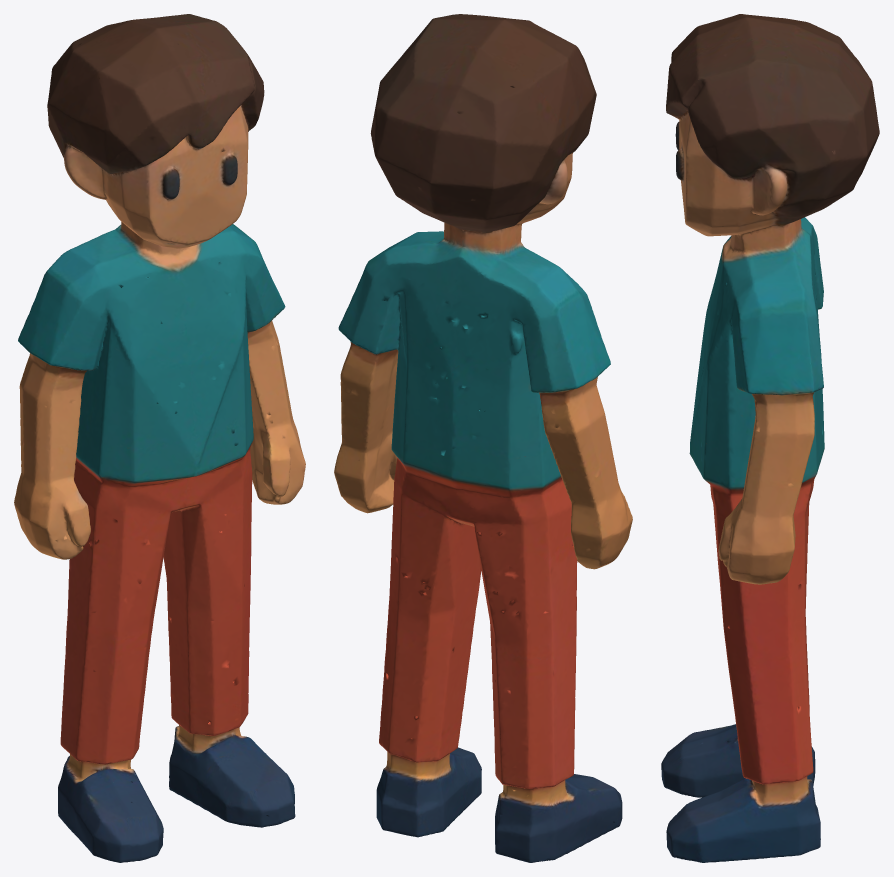
Rendered from visitor_01_tripo.glb.
3 renders of one model, left to right at view 1: azimuth 30°, elevation 25°; view 2: azimuth 150°, elevation 25°; view 3: azimuth 270°, elevation 25°, orthographic. The views are drawn at different scales.
Visible parts, largest first — view 1: tripo_node_b5675ca3-82a7-4861-bda1-aa9ecc1bdd0c; view 2: tripo_node_b5675ca3-82a7-4861-bda1-aa9ecc1bdd0c; view 3: tripo_node_b5675ca3-82a7-4861-bda1-aa9ecc1bdd0c.
Boxes of the visible parts, x1,y1,x2,y2 form: tripo_node_b5675ca3-82a7-4861-bda1-aa9ecc1bdd0c: [14, 14, 305, 862]; tripo_node_b5675ca3-82a7-4861-bda1-aa9ecc1bdd0c: [334, 14, 632, 862]; tripo_node_b5675ca3-82a7-4861-bda1-aa9ecc1bdd0c: [661, 14, 879, 862].
Bounding box in the file's own units: 0.362 × 1 × 0.2504.
Materials: 1 (1 with a texture image).
